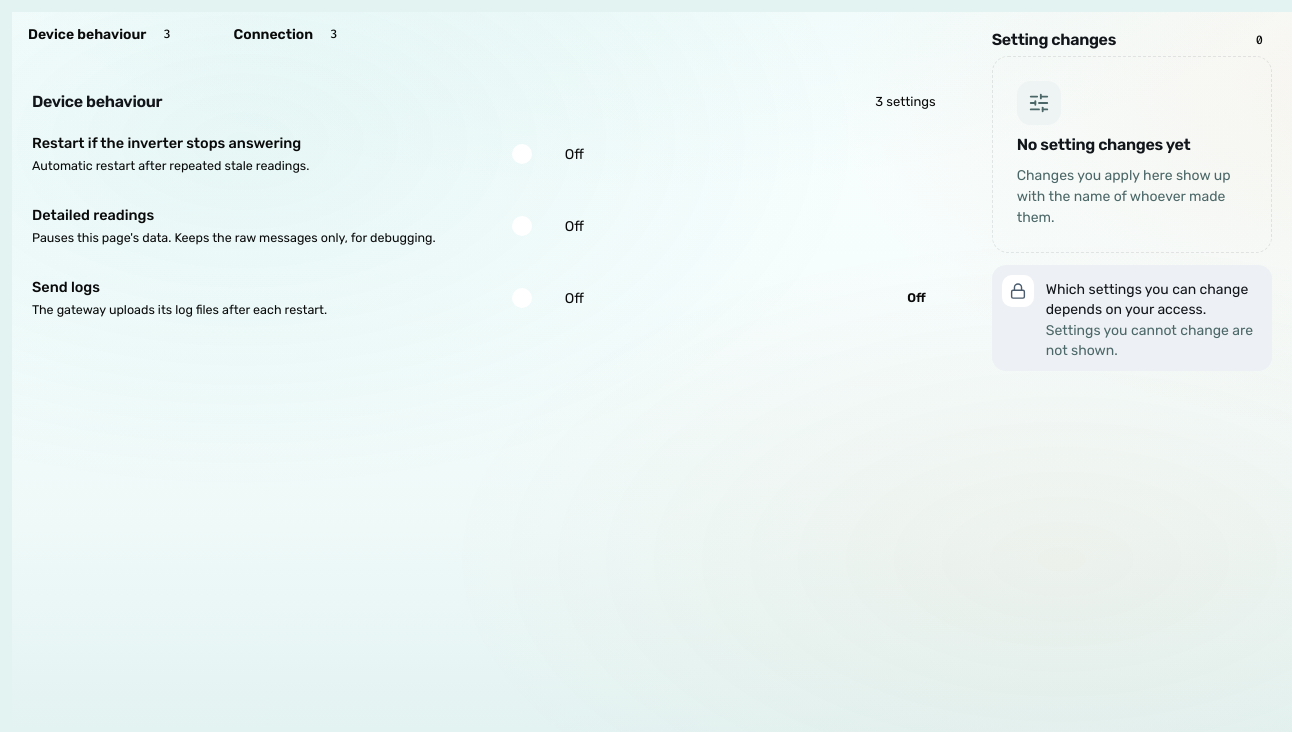
Test case: G1/G2 gateway groups, APN, no Wi-Fi fields
Step 1. Click the tab "Connection 3" → (298, 34), box [218,12,378,56]
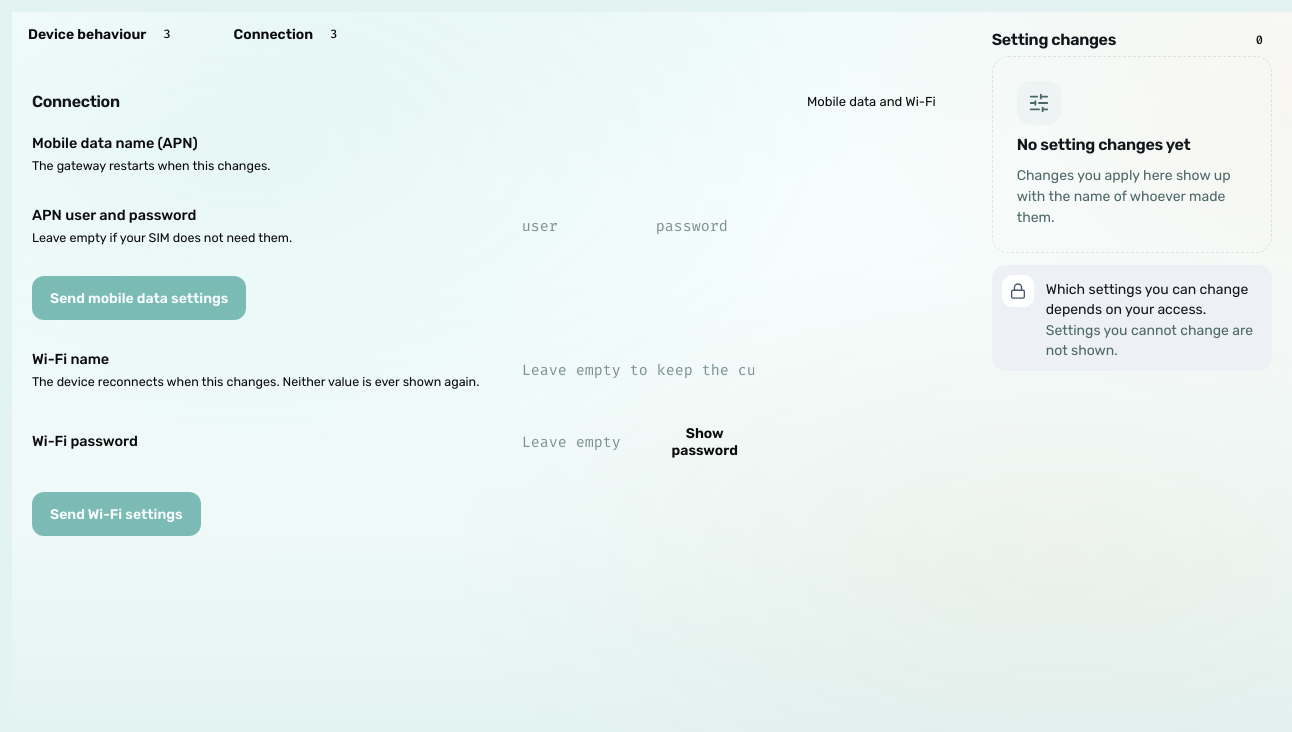
Expected: the button "Send Wi-Fi settings" is disabled, [32,492,201,536]
